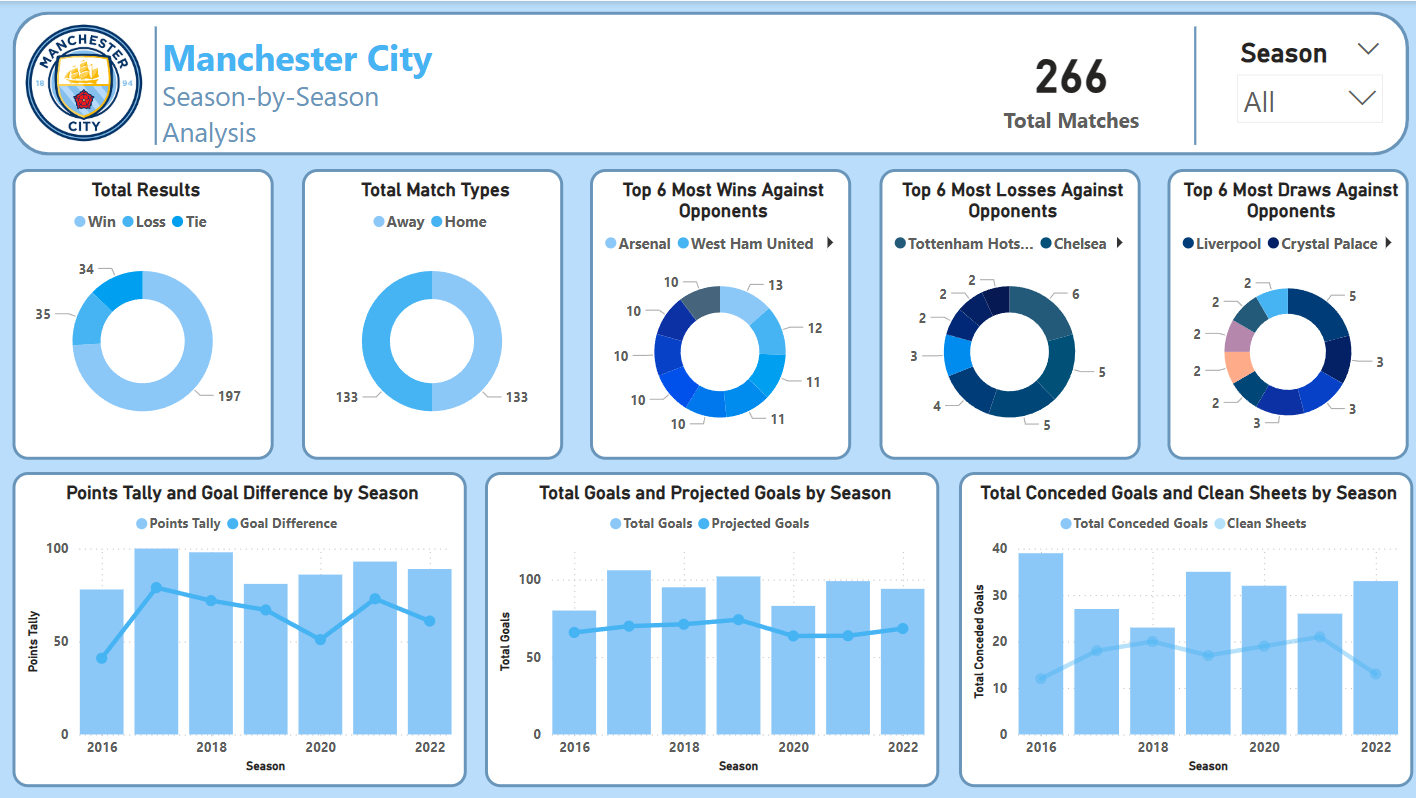

Layout of this report page (visuals, bound fields, positions):
{"tool":"powerbi","page":{"name":"Page 1","canvas":[1280,720],"ordinal":0},"visuals":[{"type":"donutChart","title":"Total Results","fields":{"Category":["Mancity.Result"],"Y":["CountNonNull(Mancity.Result)"]},"box":[12.2,151.4,235.2,262.2],"z":0},{"type":"lineStackedColumnComboChart","fields":{"Y":["Mancity.Points Tally"],"Category":["Mancity.Season"],"Y2":["Mancity.Goal Difference"]},"box":[12.2,424.4,409,283.9],"z":1000},{"type":"lineStackedColumnComboChart","fields":{"Category":["Mancity.Season"],"Y":["Mancity.Total Goals"],"Y2":["Mancity.Projected Goals"]},"box":[438.3,424.4,409.6,283.9],"z":2000},{"type":"lineStackedColumnComboChart","fields":{"Category":["Mancity.Season"],"Y":["Mancity.Total Conceded Goals"],"Y2":["Mancity.Clean Sheets"]},"box":[865.1,424.4,409,283.9],"z":3000},{"type":"donutChart","title":"Total Match Types","fields":{"Category":["Mancity.Match Type"],"Y":["CountNonNull(Mancity.Match Type)"]},"box":[272.5,151.4,235,262.2],"z":4000},{"type":"donutChart","title":"Top 6 Most Wins Against Opponents ","fields":{"Category":["Mancity.Opponents"],"Y":["Mancity.Wins Per Opponent"]},"box":[532.7,151.4,235,262.2],"z":5000},{"type":"donutChart","title":"Top 6 Most Losses Against Opponents ","fields":{"Category":["Mancity.Opponents"],"Y":["Mancity.Losses Per Opponent"]},"box":[792.8,151.4,235,262.2],"z":6000},{"type":"donutChart","title":"Top 6 Most Draws Against Opponents ","fields":{"Category":["Mancity.Opponents"],"Y":["Mancity.Draws Per Opponent"]},"box":[1053,151.4,217.6,262.2],"z":7000},{"type":"shape","box":[12.2,9.5,1258.4,129.8],"z":8000},{"type":"image","box":[12.2,8.1,128.4,131.1],"z":9000},{"type":"shape","box":[127.1,23,28.4,106.8],"z":10000},{"type":"textbox","box":[141.9,63.5,247.4,75.7],"z":11000},{"type":"textbox","box":[141.9,23,263.6,54.1],"z":12000},{"type":"card","fields":{"Values":["Mancity.Total Matches"]},"box":[854.3,9.5,223,131.1],"z":13000},{"type":"shape","box":[1063.8,23,28.4,106.8],"z":14000},{"type":"slicer","fields":{"Values":["Mancity.Season"]},"box":[1106.1,27.7,151.2,95.9],"z":15000}]}

Visuals, with their boxes in screenshot pixels (x1, y1, x2, y2), scaled from the page's 1280x720 canvas onto the 1416x798 screenshot:
"Total Results" donutChart: 13, 168, 274, 458
lineStackedColumnComboChart - Mancity.Points Tally x Mancity.Season: 13, 470, 466, 785
lineStackedColumnComboChart - Mancity.Season x Mancity.Total Goals: 485, 470, 938, 785
lineStackedColumnComboChart - Mancity.Season x Mancity.Total Conceded Goals: 957, 470, 1409, 785
"Total Match Types" donutChart: 301, 168, 561, 458
"Top 6 Most Wins Against Opponents " donutChart: 589, 168, 849, 458
"Top 6 Most Losses Against Opponents " donutChart: 877, 168, 1137, 458
"Top 6 Most Draws Against Opponents " donutChart: 1165, 168, 1406, 458
shape: 13, 11, 1406, 154
image: 13, 9, 156, 154
shape: 141, 25, 172, 144
textbox: 157, 70, 431, 154
textbox: 157, 25, 449, 85
card - Mancity.Total Matches: 945, 11, 1192, 156
shape: 1177, 25, 1208, 144
slicer - Mancity.Season: 1224, 31, 1391, 137
